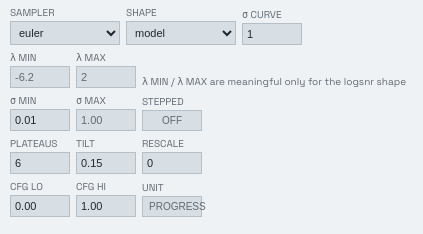
AdvancedSampling (spec 4.6 item 4, 5.3) › toggling the CFG unit changes only the displayed label, never the stored progress
Click the button with test id "adv-cfg-unit": (172, 206) [142, 196, 202, 217]
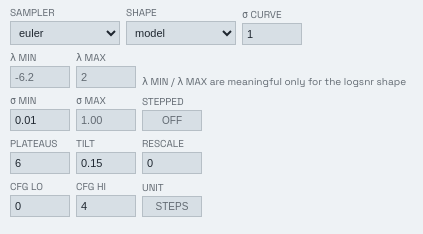
Result: the button with test id "adv-cfg-unit" reads "STEPS"
Click the button with test id "adv-cfg-unit": (172, 206) [142, 196, 202, 217]
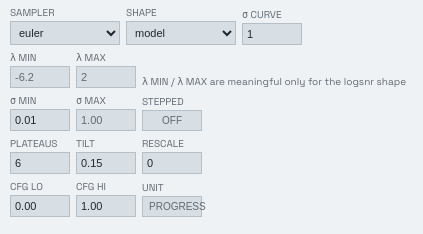
Result: the button with test id "adv-cfg-unit" reads "PROGRESS" at [142, 196, 202, 217]
